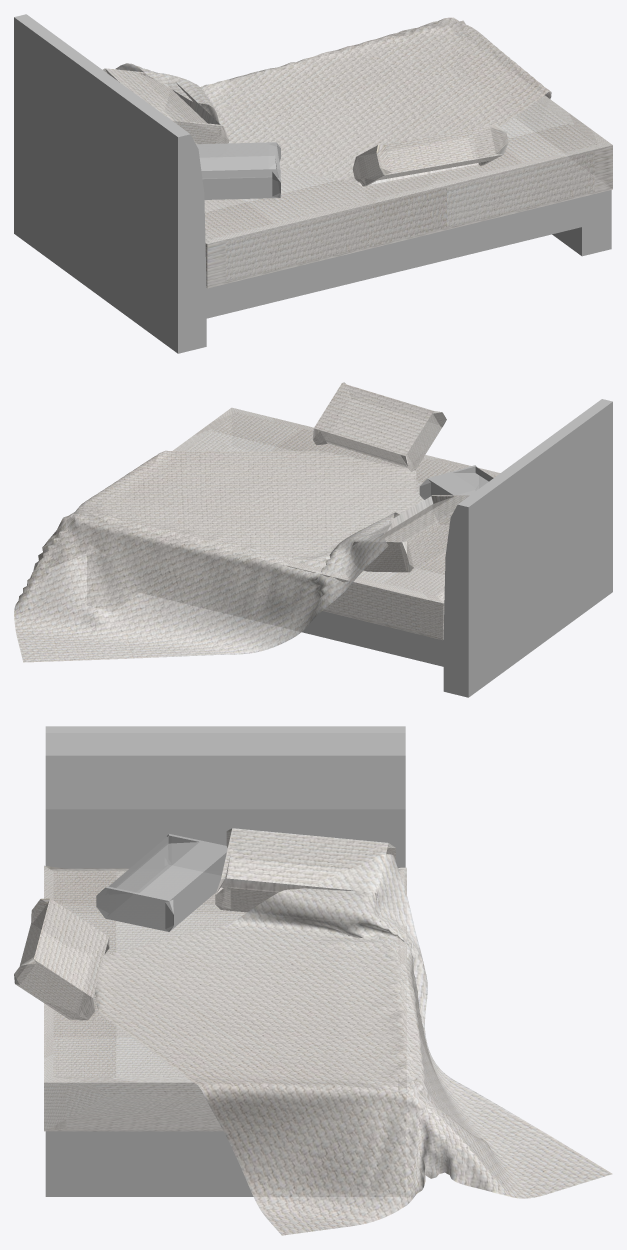
File: Cama.dae
3 renders of one model, top to bottom at view 1: azimuth 30°, elevation 25°; view 2: azimuth 150°, elevation 25°; view 3: azimuth 270°, elevation 25°, orthographic. The views are drawn at different scales.
Visible parts, largest first — view 1: Cama, Cube.001, Plane, Cube.003, Cube.004, Cube.002; view 2: Plane, Cama, Cube.001, Cube.003, Cube.002, Cube.004; view 3: Plane, Cama, Cube.001, Cube.002, Cube.004, Cube.003.
Part boxes in pixels (left/top/right/bottom): Cama: left=14, top=14, right=611, bottom=353; Cube.001: left=200, top=27, right=612, bottom=288; Plane: left=115, top=17, right=551, bottom=185; Cube.003: left=352, top=124, right=508, bottom=186; Cube.004: left=196, top=142, right=280, bottom=199; Cube.002: left=103, top=68, right=229, bottom=144; Plane: left=14, top=450, right=416, bottom=662; Cama: left=87, top=399, right=612, bottom=697; Cube.001: left=87, top=407, right=500, bottom=640; Cube.003: left=313, top=382, right=446, bottom=471; Cube.002: left=350, top=495, right=469, bottom=572; Cube.004: left=419, top=465, right=493, bottom=499; Plane: left=95, top=854, right=612, bottom=1235; Cama: left=45, top=726, right=405, bottom=1196; Cube.001: left=44, top=865, right=406, bottom=1131; Cube.002: left=215, top=828, right=395, bottom=922; Cube.004: left=96, top=834, right=227, bottom=931; Cube.003: left=14, top=898, right=109, bottom=1021.
Size of the model in its own units: 12.23 by 10.98 by 4.83.
